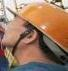gloves: (0, 45, 12, 70), (0, 27, 12, 43)
hard-hat: (0, 9, 14, 30)
